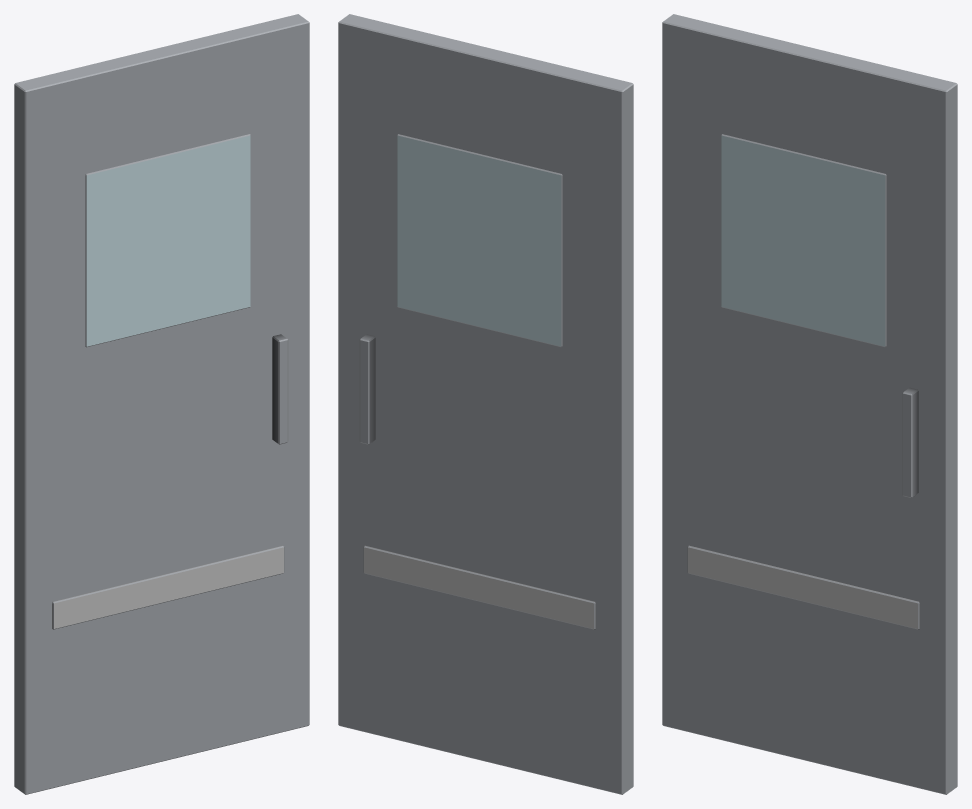
Rendered from door_station.glb.
3 renders of one model, left to right at view 1: azimuth 30°, elevation 25°; view 2: azimuth 150°, elevation 25°; view 3: azimuth 330°, elevation 25°, orthographic.
Visible parts, largest first — view 1: door_station; view 2: door_station; view 3: door_station.
Part boxes in pixels (x1,y1,x2,y2): door_station: [14, 14, 309, 794]; door_station: [338, 14, 633, 794]; door_station: [662, 14, 957, 794].
Size of the model in its own units: 0.86 by 2.03 by 0.13.
